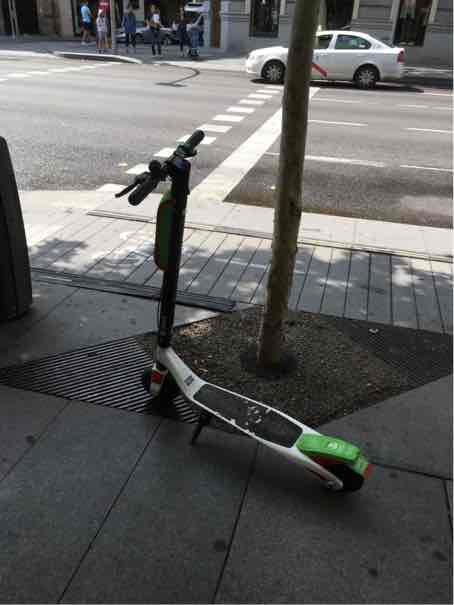scooter: (111, 114, 376, 496)
